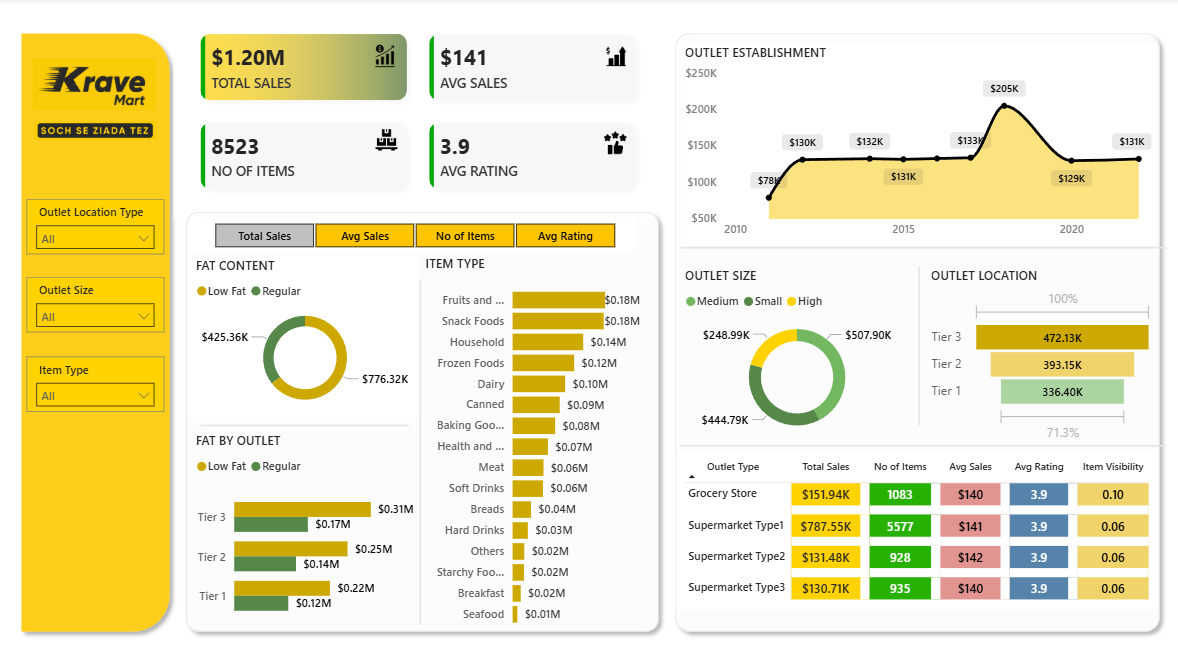

The dashboard page shown, as its layout file describes it:
{"tool":"powerbi","page":{"name":"Dashboard","canvas":[1280,720],"ordinal":0},"visuals":[{"type":"shape","box":[16.3,29.3,178.9,666.9],"z":0},{"type":"image","box":[39,133.4,133.4,21.1],"z":1000},{"type":"image","box":[37.4,63.4,133.4,60.2],"z":2000},{"type":"cardVisual","fields":{"Data":["BlinkIT Grocery Data.Total Sales","BlinkIT Grocery Data.Average Sales","BlinkIT Grocery Data.No of Items","BlinkIT Grocery Data.Average Rating"]},"box":[190.3,9.8,530.3,227.7],"z":3000},{"type":"image","box":[406.6,50.4,26,24.4],"z":4000},{"type":"image","box":[649,144.8,40.7,24.4],"z":5000},{"type":"image","box":[649,52,42.3,22.8],"z":6000},{"type":"image","box":[406.6,141.5,29.3,24.4],"z":7000},{"type":"shape","box":[195.2,222.8,530.3,473.3],"z":8000},{"type":"donutChart","title":"FAT CONTENT","fields":{"Y":["BlinkIT Grocery Data.Total Sales"],"Category":["BlinkIT Grocery Data.Item Fat Content"]},"box":[209.8,279.8,245.6,174],"z":9000},{"type":"slicer","fields":{"Values":["Metrics.Metrics"]},"box":[209.8,237.5,483.1,35.8],"z":10000},{"type":"clusteredBarChart","title":"FAT BY OUTLET","fields":{"Y":["BlinkIT Grocery Data.Total Sales"],"Series":["BlinkIT Grocery Data.Item Fat Content"],"Category":["BlinkIT Grocery Data.Outlet Location Type"]},"box":[209.8,470.1,245.6,218],"z":11000},{"type":"shape","box":[219.6,453.8,226.1,19.5],"z":12000},{"type":"shape","box":[447.3,305.8,21.1,374.1],"z":13000},{"type":"barChart","title":"ITEM TYPE","fields":{"Y":["BlinkIT Grocery Data.Total Sales"],"Category":["BlinkIT Grocery Data.Item Type"]},"box":[458.7,278.1,242.4,413.1],"z":14000},{"type":"shape","box":[725.4,29.3,543.3,666.9],"z":15000},{"type":"lineChart","title":"OUTLET ESTABLISHMENT","fields":{"Y":["BlinkIT Grocery Data.Total Sales"],"Category":["BlinkIT Grocery Data.Outlet Establishment Year"]},"box":[740.1,48.8,515.6,219.6],"z":16000},{"type":"shape","box":[740.1,263.5,527,14.6],"z":17000},{"type":"donutChart","title":"OUTLET SIZE","fields":{"Y":["BlinkIT Grocery Data.Total Sales"],"Category":["BlinkIT Grocery Data.Outlet Size"]},"box":[740.1,291.2,252.1,193.6],"z":18000},{"type":"shape","box":[992.2,291.2,13,172.4],"z":19000},{"type":"funnel","title":"OUTLET LOCATION","fields":{"Y":["Sum(BlinkIT Grocery Data.Sales)"],"Category":["BlinkIT Grocery Data.Outlet Location Type"]},"box":[1006.8,291.2,250.5,193.6],"z":20000},{"type":"shape","box":[740.1,479.8,527,11.4],"z":21000},{"type":"pivotTable","fields":{"Rows":["BlinkIT Grocery Data.Outlet Type"],"Values":["BlinkIT Grocery Data.Total Sales","BlinkIT Grocery Data.No of Items","BlinkIT Grocery Data.Avg Sales","BlinkIT Grocery Data.Avg Rating","Avg(BlinkIT Grocery Data.Item Visibility)"]},"box":[738.5,492.8,518.9,170.8],"z":22000},{"type":"slicer","fields":{"Values":["BlinkIT Grocery Data.Outlet Location Type"]},"box":[30.9,218,149.6,60.2],"z":22001},{"type":"slicer","fields":{"Values":["BlinkIT Grocery Data.Outlet Size"]},"box":[30.9,302.5,149.6,60.2],"z":22002},{"type":"slicer","fields":{"Values":["BlinkIT Grocery Data.Item Type"]},"box":[30.9,388.7,149.6,60.2],"z":22003}]}

Visuals, with their boxes in screenshot pixels (x1, y1, x2, y2), scaled from the page's 1280x720 canvas onto the 1178x659 screenshot:
shape: 15:27:180:637
image: 36:122:159:141
image: 34:58:157:113
cardVisual - BlinkIT Grocery Data.Total Sales x BlinkIT Grocery Data.Average Sales: 175:9:663:217
image: 374:46:398:68
image: 597:133:635:155
image: 597:48:636:68
image: 374:130:401:152
shape: 180:204:668:637
"FAT CONTENT" donutChart: 193:256:419:415
slicer - Metrics.Metrics: 193:217:638:250
"FAT BY OUTLET" clusteredBarChart: 193:430:419:630
shape: 202:415:410:433
shape: 412:280:431:622
"ITEM TYPE" barChart: 422:255:645:633
shape: 668:27:1168:637
"OUTLET ESTABLISHMENT" lineChart: 681:45:1156:246
shape: 681:241:1166:255
"OUTLET SIZE" donutChart: 681:267:913:444
shape: 913:267:925:424
"OUTLET LOCATION" funnel: 927:267:1157:444
shape: 681:439:1166:450
pivotTable - BlinkIT Grocery Data.Outlet Type x BlinkIT Grocery Data.Total Sales: 680:451:1157:607
slicer - BlinkIT Grocery Data.Outlet Location Type: 28:200:166:255
slicer - BlinkIT Grocery Data.Outlet Size: 28:277:166:332
slicer - BlinkIT Grocery Data.Item Type: 28:356:166:411
